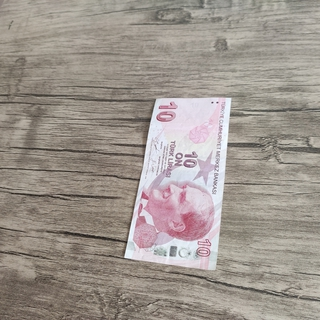10TLFront: (122, 96, 232, 271)
